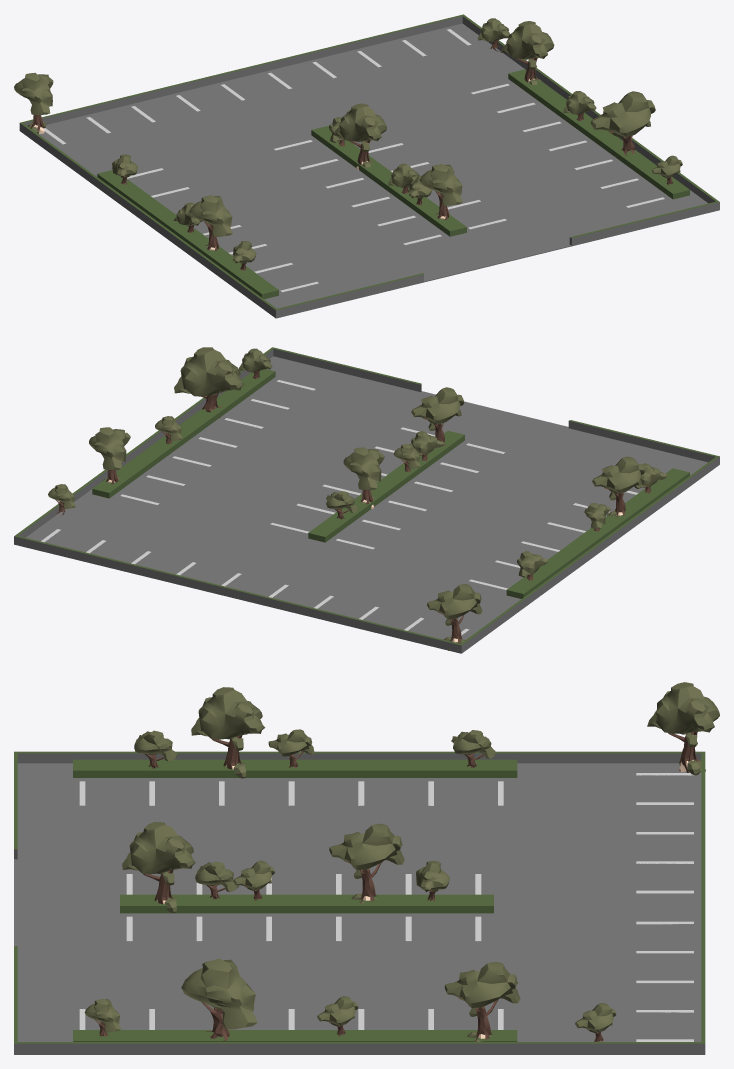
Rendered from CarParkingLot.fbx.
The picture shows the model from 3 angles, top to bottom: view 1: azimuth 30°, elevation 25°; view 2: azimuth 150°, elevation 25°; view 3: azimuth 270°, elevation 25°; orthographic projection. The views are drawn at different scales.
Parts seen in each view (by area): view 1: parking, parking.001; view 2: parking, parking.001; view 3: parking, parking.001.
Part boxes in pixels (<box>): parking: <box>14,14,719,318</box>; parking.001: <box>43,29,664,292</box>; parking: <box>14,347,719,653</box>; parking.001: <box>41,380,638,635</box>; parking: <box>14,682,719,1054</box>; parking.001: <box>79,773,693,1041</box>.
Size of the model in its own units: 12.58 by 1.67 by 12.26.
